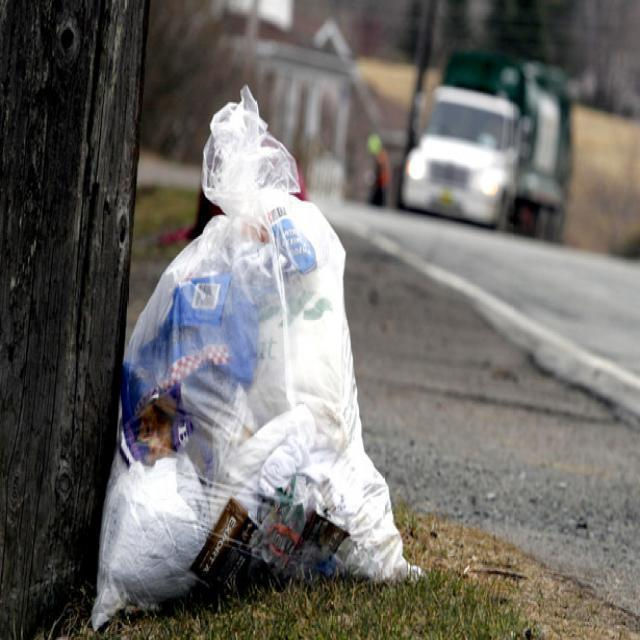Garbage_Bag: (92, 84, 430, 625)
